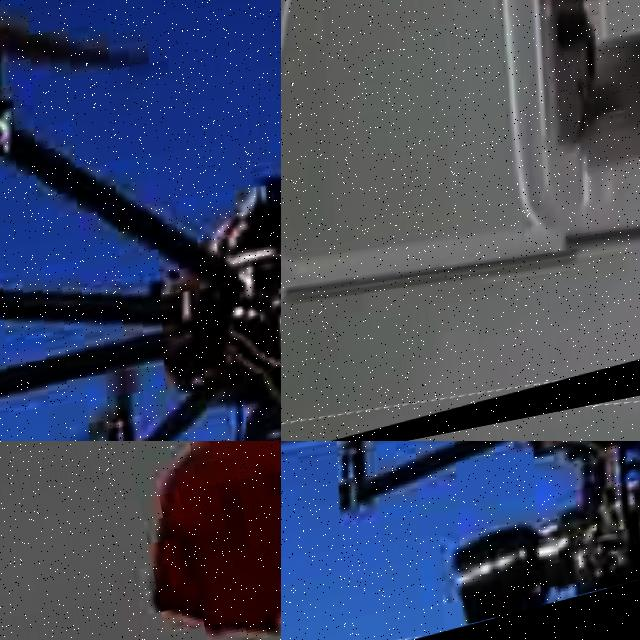0: (0, 0, 281, 441), (281, 441, 640, 640)
drone: (281, 0, 640, 441)
